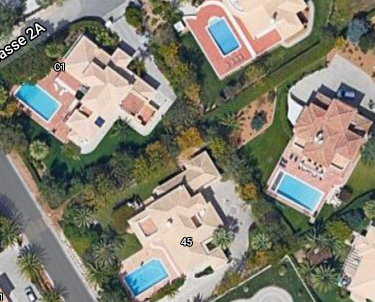pool: (281, 174, 321, 211), (14, 84, 60, 113), (207, 20, 239, 54), (121, 262, 167, 284)
